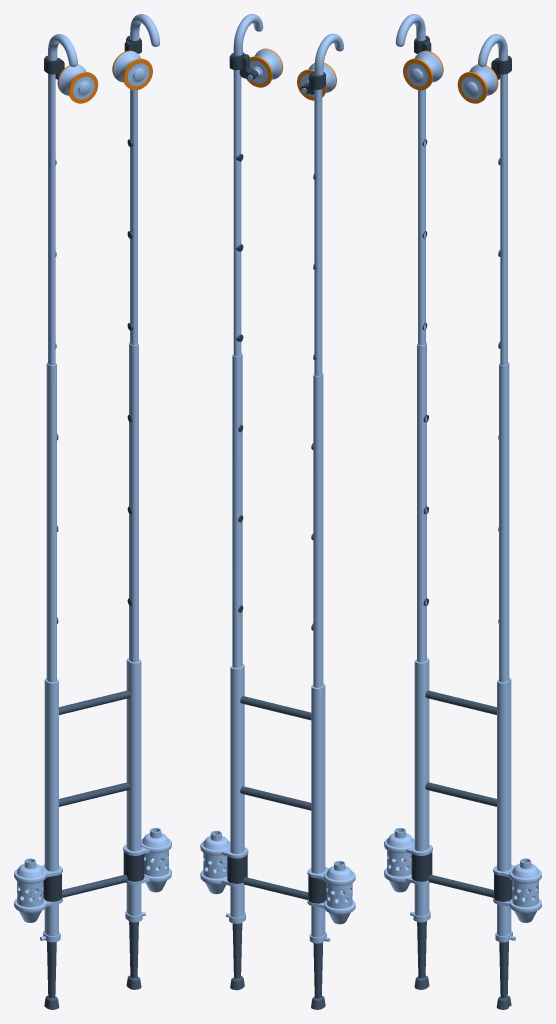
Rendered from Ladder_JetsUpgrade_01_Mesh.fbx.
3 views of the same model, side by side, from view 1: azimuth 30°, elevation 25°; view 2: azimuth 150°, elevation 25°; view 3: azimuth 330°, elevation 25° (orthographic).
Parts seen in each view (by area): view 1: Steps Right 4.001, Fire Burst.001, Wheels.001, Steps Right 4.002; view 2: Steps Right 4.001, Fire Burst.001, Wheels.001, Steps Right 4.002; view 3: Steps Right 4.001, Fire Burst.001, Wheels.001, Steps Right 4.002.
Boxes of the visible parts, x1,y1,x2,y2 form: Steps Right 4.001: (40,73,145,1009); Fire Burst.001: (14,828,171,922); Wheels.001: (55,40,152,103); Steps Right 4.002: (44,14,159,74); Steps Right 4.001: (225,70,330,1009); Fire Burst.001: (200,830,355,924); Wheels.001: (239,48,336,100); Steps Right 4.002: (229,14,343,89); Steps Right 4.001: (410,73,515,1009); Fire Burst.001: (384,828,541,922); Wheels.001: (403,40,500,103); Steps Right 4.002: (395,14,511,74).
Bounding box in the file's own units: 63.52 × 387 × 22.88.
